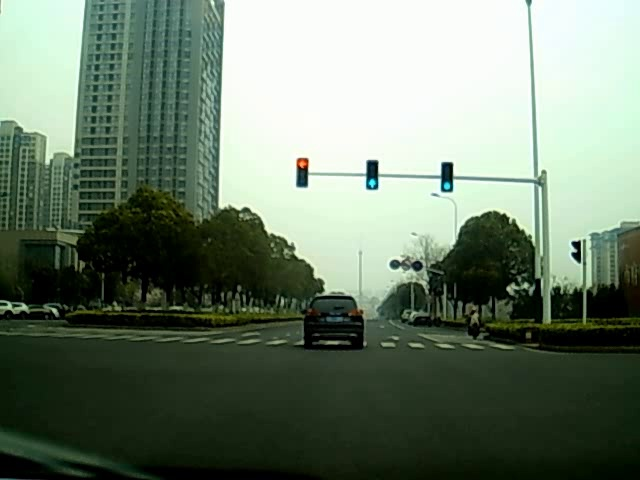Traffic_Light_go: (440, 163, 453, 193), (367, 162, 378, 189)
Traffic_Light_stop: (296, 157, 309, 185)
